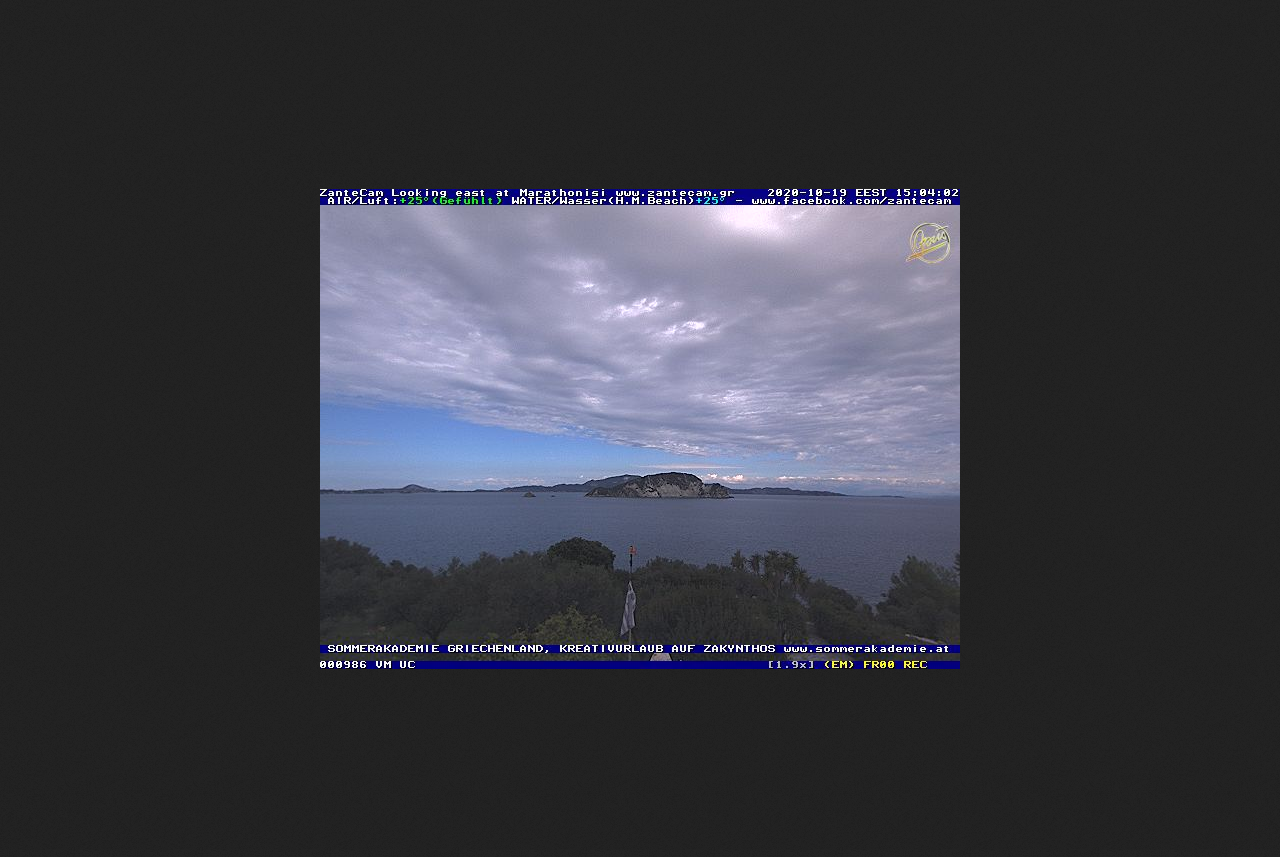no: (619, 580, 640, 634)
